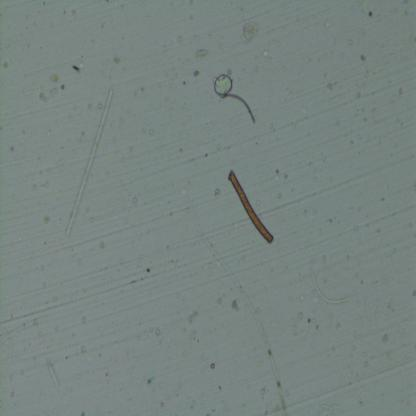Background material: (223, 93, 257, 125), (0, 316, 40, 342), (238, 19, 260, 45), (214, 72, 233, 100), (38, 86, 58, 102), (195, 46, 208, 61), (71, 62, 83, 75), (188, 310, 198, 325), (232, 299, 242, 313), (149, 326, 160, 337), (288, 319, 298, 331), (273, 403, 281, 416), (259, 387, 267, 399), (387, 298, 395, 310), (1, 59, 10, 69), (42, 216, 51, 226), (48, 74, 59, 82), (382, 333, 389, 345), (262, 51, 271, 59), (360, 52, 366, 64), (406, 221, 414, 230), (398, 87, 404, 99), (174, 36, 184, 43), (362, 361, 370, 369), (326, 82, 334, 90), (113, 56, 121, 64), (80, 316, 88, 324), (10, 390, 16, 400), (160, 400, 165, 412), (356, 89, 362, 99), (216, 298, 223, 306), (19, 368, 26, 376), (215, 187, 220, 198), (254, 306, 260, 314), (298, 312, 304, 320), (362, 350, 368, 358), (346, 254, 352, 262), (302, 209, 308, 217), (368, 10, 374, 18), (132, 196, 138, 204), (147, 376, 153, 384), (336, 323, 342, 330), (81, 347, 87, 354), (283, 173, 290, 179), (216, 385, 222, 392), (208, 262, 213, 270), (97, 102, 102, 110), (204, 151, 209, 159), (211, 362, 215, 371), (321, 256, 327, 262), (306, 318, 312, 324), (184, 207, 190, 213), (10, 146, 16, 152), (380, 197, 386, 203), (121, 156, 126, 163), (100, 242, 105, 249), (176, 294, 181, 301), (88, 103, 93, 110), (358, 397, 362, 405), (300, 296, 306, 301), (314, 324, 319, 330), (212, 407, 217, 413), (149, 129, 154, 135), (275, 168, 280, 174), (194, 71, 199, 77), (351, 346, 355, 353), (412, 290, 416, 297), (353, 226, 358, 231), (60, 84, 65, 89), (119, 258, 123, 264), (146, 267, 150, 273), (328, 218, 332, 224), (129, 281, 136, 284), (80, 411, 84, 416), (377, 229, 381, 234), (360, 281, 364, 285), (170, 211, 172, 216)
Glass filter fibre: (186, 195, 287, 413), (65, 87, 114, 235), (306, 262, 352, 305), (0, 322, 13, 376), (362, 288, 372, 336), (46, 357, 61, 388), (320, 401, 340, 413)
Microfibre: (229, 171, 273, 244)
